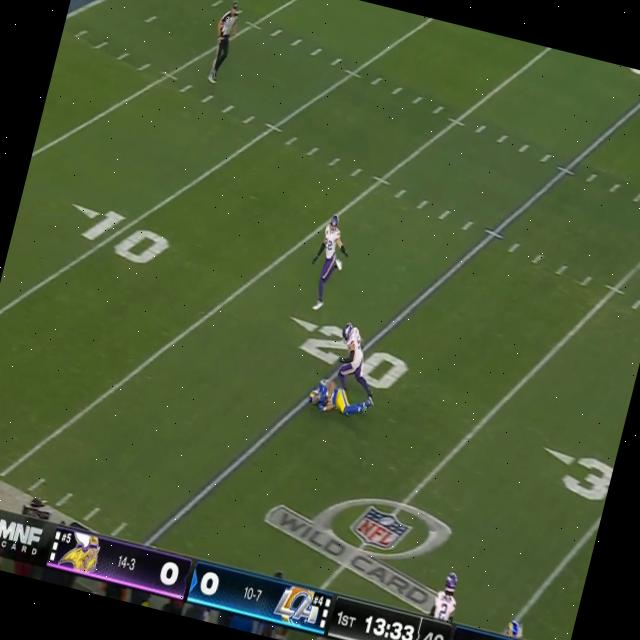Player: (304, 214, 348, 311), (332, 312, 374, 390), (306, 377, 364, 422), (428, 566, 468, 622)
Referee: (201, 0, 245, 91)
